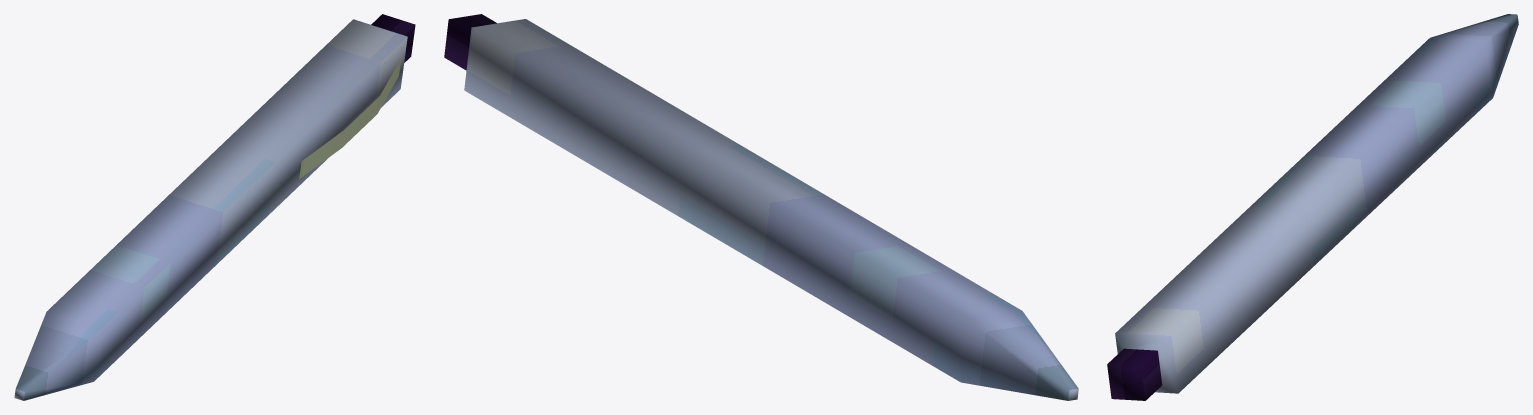
The model's file is pen5.fbx.
3 renders of one model, left to right at view 1: azimuth 90°, elevation 25°; view 2: azimuth 150°, elevation 25°; view 3: azimuth 270°, elevation 25°, orthographic. The views are drawn at different scales.
Parts seen in each view (by area): view 1: pen5; view 2: pen5; view 3: pen5.
Boxes of the visible parts, left/top/right/bottom form: pen5: left=14, top=14, right=415, bottom=400; pen5: left=444, top=14, right=1078, bottom=400; pen5: left=1107, top=14, right=1518, bottom=400.
Bounding box in the file's own units: 22.13 × 1.81 × 10.38.
Materials: 1 (1 with a texture image).
